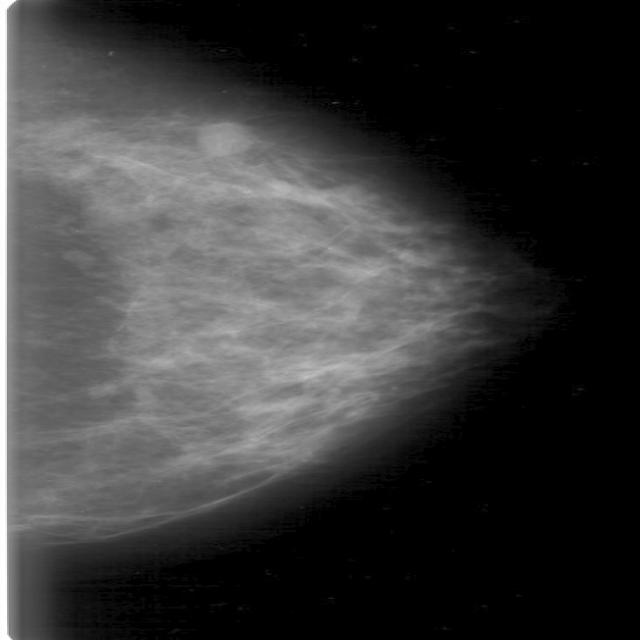tumour: (192, 120, 253, 158)
